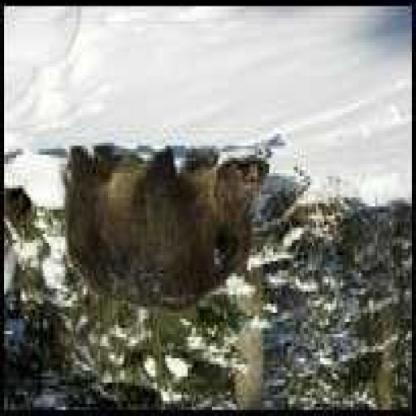boar: (22, 102, 317, 318)
